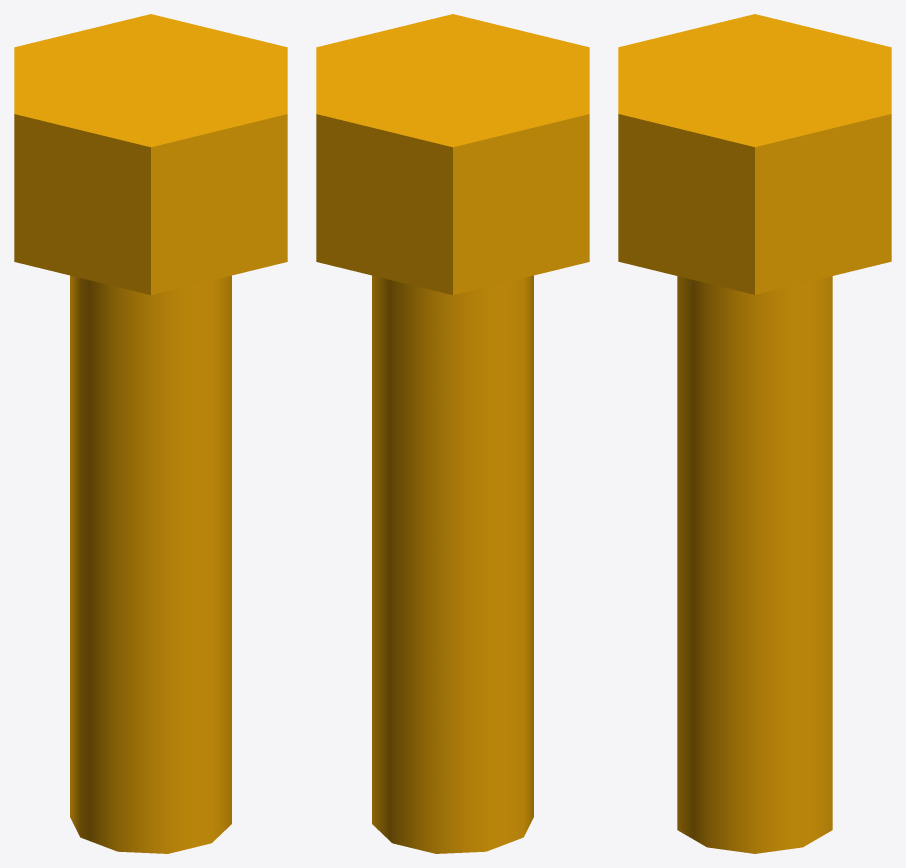
File: bolt.glb
The picture shows the model from 3 angles, left to right: view 1: azimuth 30°, elevation 25°; view 2: azimuth 150°, elevation 25°; view 3: azimuth 270°, elevation 25°; orthographic projection.
Visible parts, largest first — view 1: bolt; view 2: bolt; view 3: bolt.
Boxes of the visible parts, bbox=[...] form: bolt: bbox=[14, 14, 287, 853]; bolt: bbox=[316, 14, 589, 853]; bolt: bbox=[618, 14, 891, 853].
Size of the model in its own units: 0.0116 by 0.03 by 0.01.
